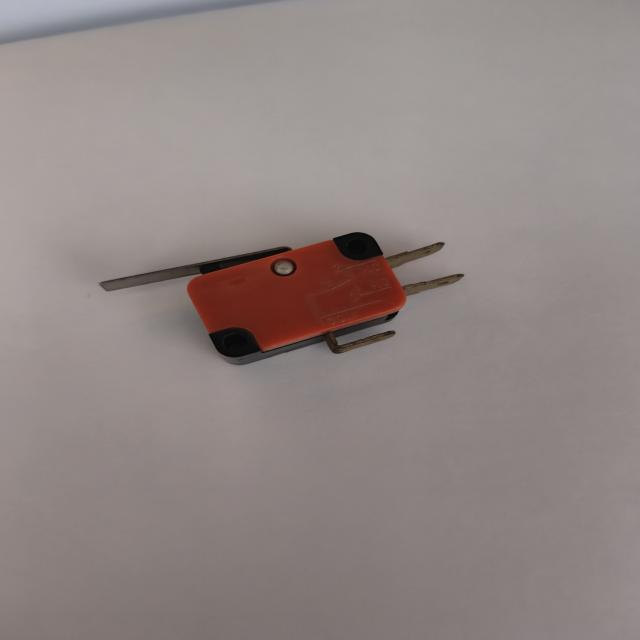switch: (96, 223, 474, 374)
